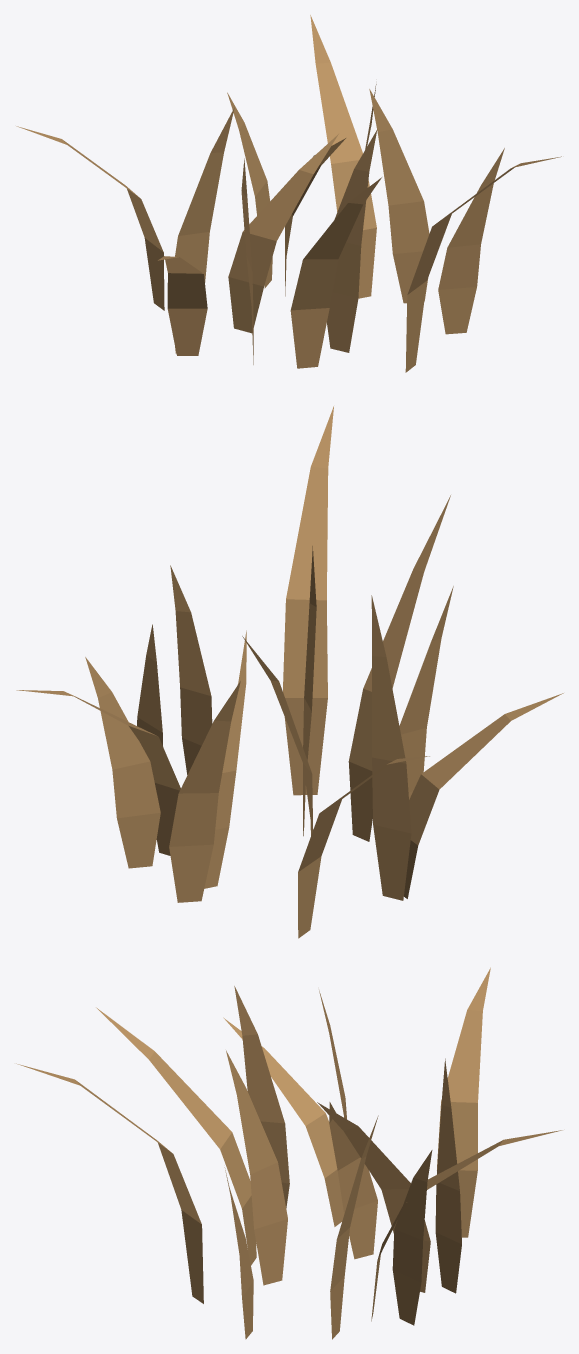
File: SM_Grass_02.fbx
3 views of the same model, one above another, from view 1: azimuth 30°, elevation 25°; view 2: azimuth 150°, elevation 25°; view 3: azimuth 270°, elevation 25° (orthographic). The views are drawn at different scales.
Parts seen in each view (by area): view 1: SM_Grass_02; view 2: SM_Grass_02; view 3: SM_Grass_02.
Part boxes in pixels (x1=…): SM_Grass_02: x1=16, y1=15, x2=561, y2=372; SM_Grass_02: x1=16, y1=406, x2=563, y2=938; SM_Grass_02: x1=16, y1=967, x2=562, y2=1339.
Size of the model in its own units: 186 by 129 by 239.
